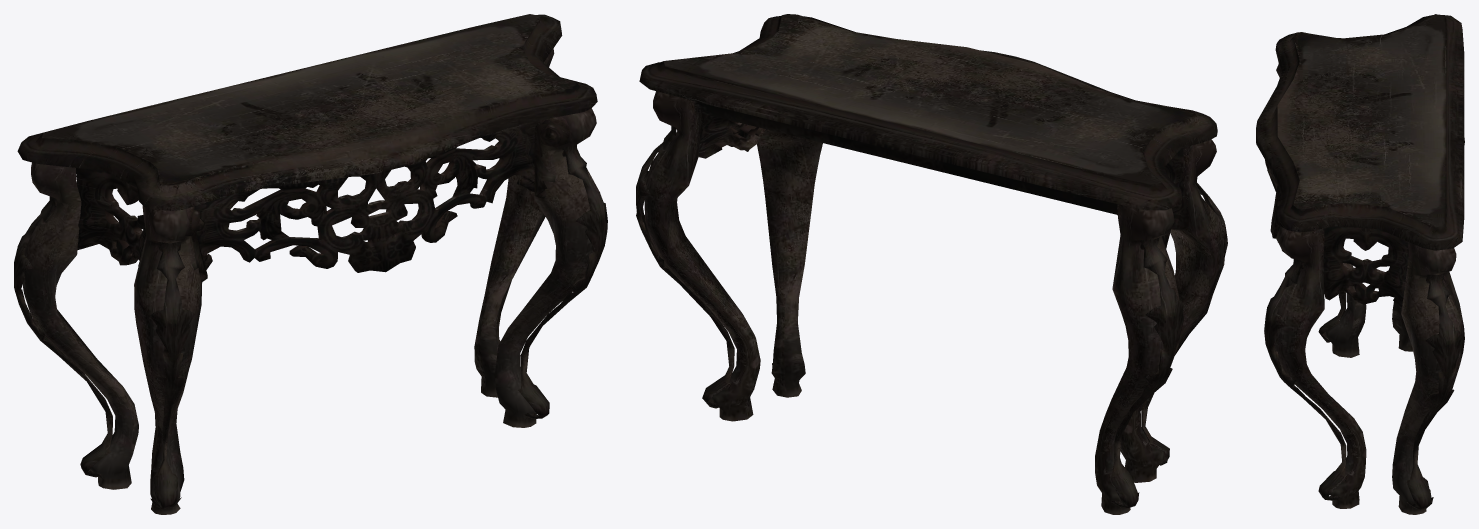
File: ClassicConsole_01.glb
3 views of the same model, side by side, from view 1: azimuth 30°, elevation 25°; view 2: azimuth 150°, elevation 25°; view 3: azimuth 270°, elevation 25° (orthographic). The views are drawn at different scales.
Parts seen in each view (by area): view 1: ClassicConsole_01; view 2: ClassicConsole_01; view 3: ClassicConsole_01.
Boxes of the visible parts, x1,y1,x2,y2 form: ClassicConsole_01: [14, 14, 607, 514]; ClassicConsole_01: [636, 14, 1227, 514]; ClassicConsole_01: [1256, 14, 1464, 514].
Size of the model in its own units: 1.54 by 0.9491 by 0.5859.
Materials: 1 (1 with a texture image).
